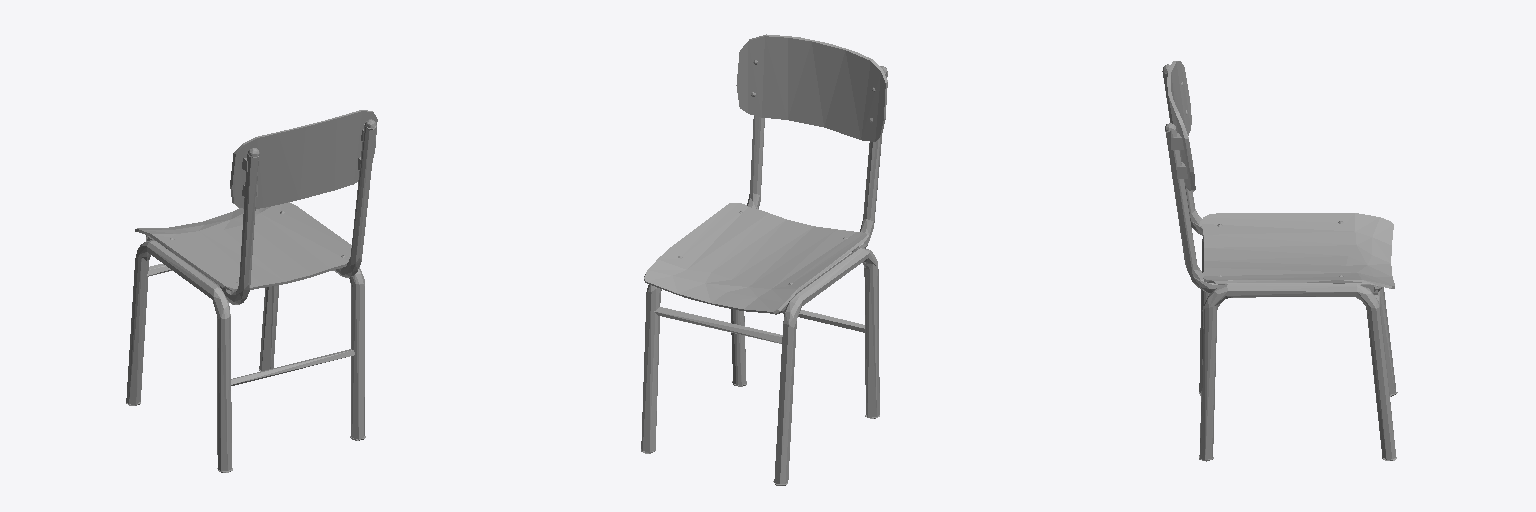
The model's file is chair.obj.
3 renders of one model, left to right at view 1: azimuth 30°, elevation 25°; view 2: azimuth 150°, elevation 25°; view 3: azimuth 270°, elevation 25°, orthographic.
Parts seen in each view (by area): view 1: Componen01.000_Componen01.002, Componen01.000_Componen01.001; view 2: Componen01.000_Componen01.002, Componen01.000_Componen01.001; view 3: Componen01.000_Componen01.002, Componen01.000_Componen01.001, Componen01.000_Componen01.000.
Part boxes in pixels (x1,y1,x2,y2): Componen01.000_Componen01.002: (135, 110, 377, 291); Componen01.000_Componen01.001: (126, 124, 375, 470); Componen01.000_Componen01.002: (644, 34, 887, 313); Componen01.000_Componen01.001: (641, 74, 887, 483); Componen01.000_Componen01.002: (1167, 61, 1394, 288); Componen01.000_Componen01.001: (1163, 73, 1395, 459); Componen01.000_Componen01.000: (1162, 64, 1397, 461).
Size of the model in its own units: 3.1 by 6.85 by 4.24.